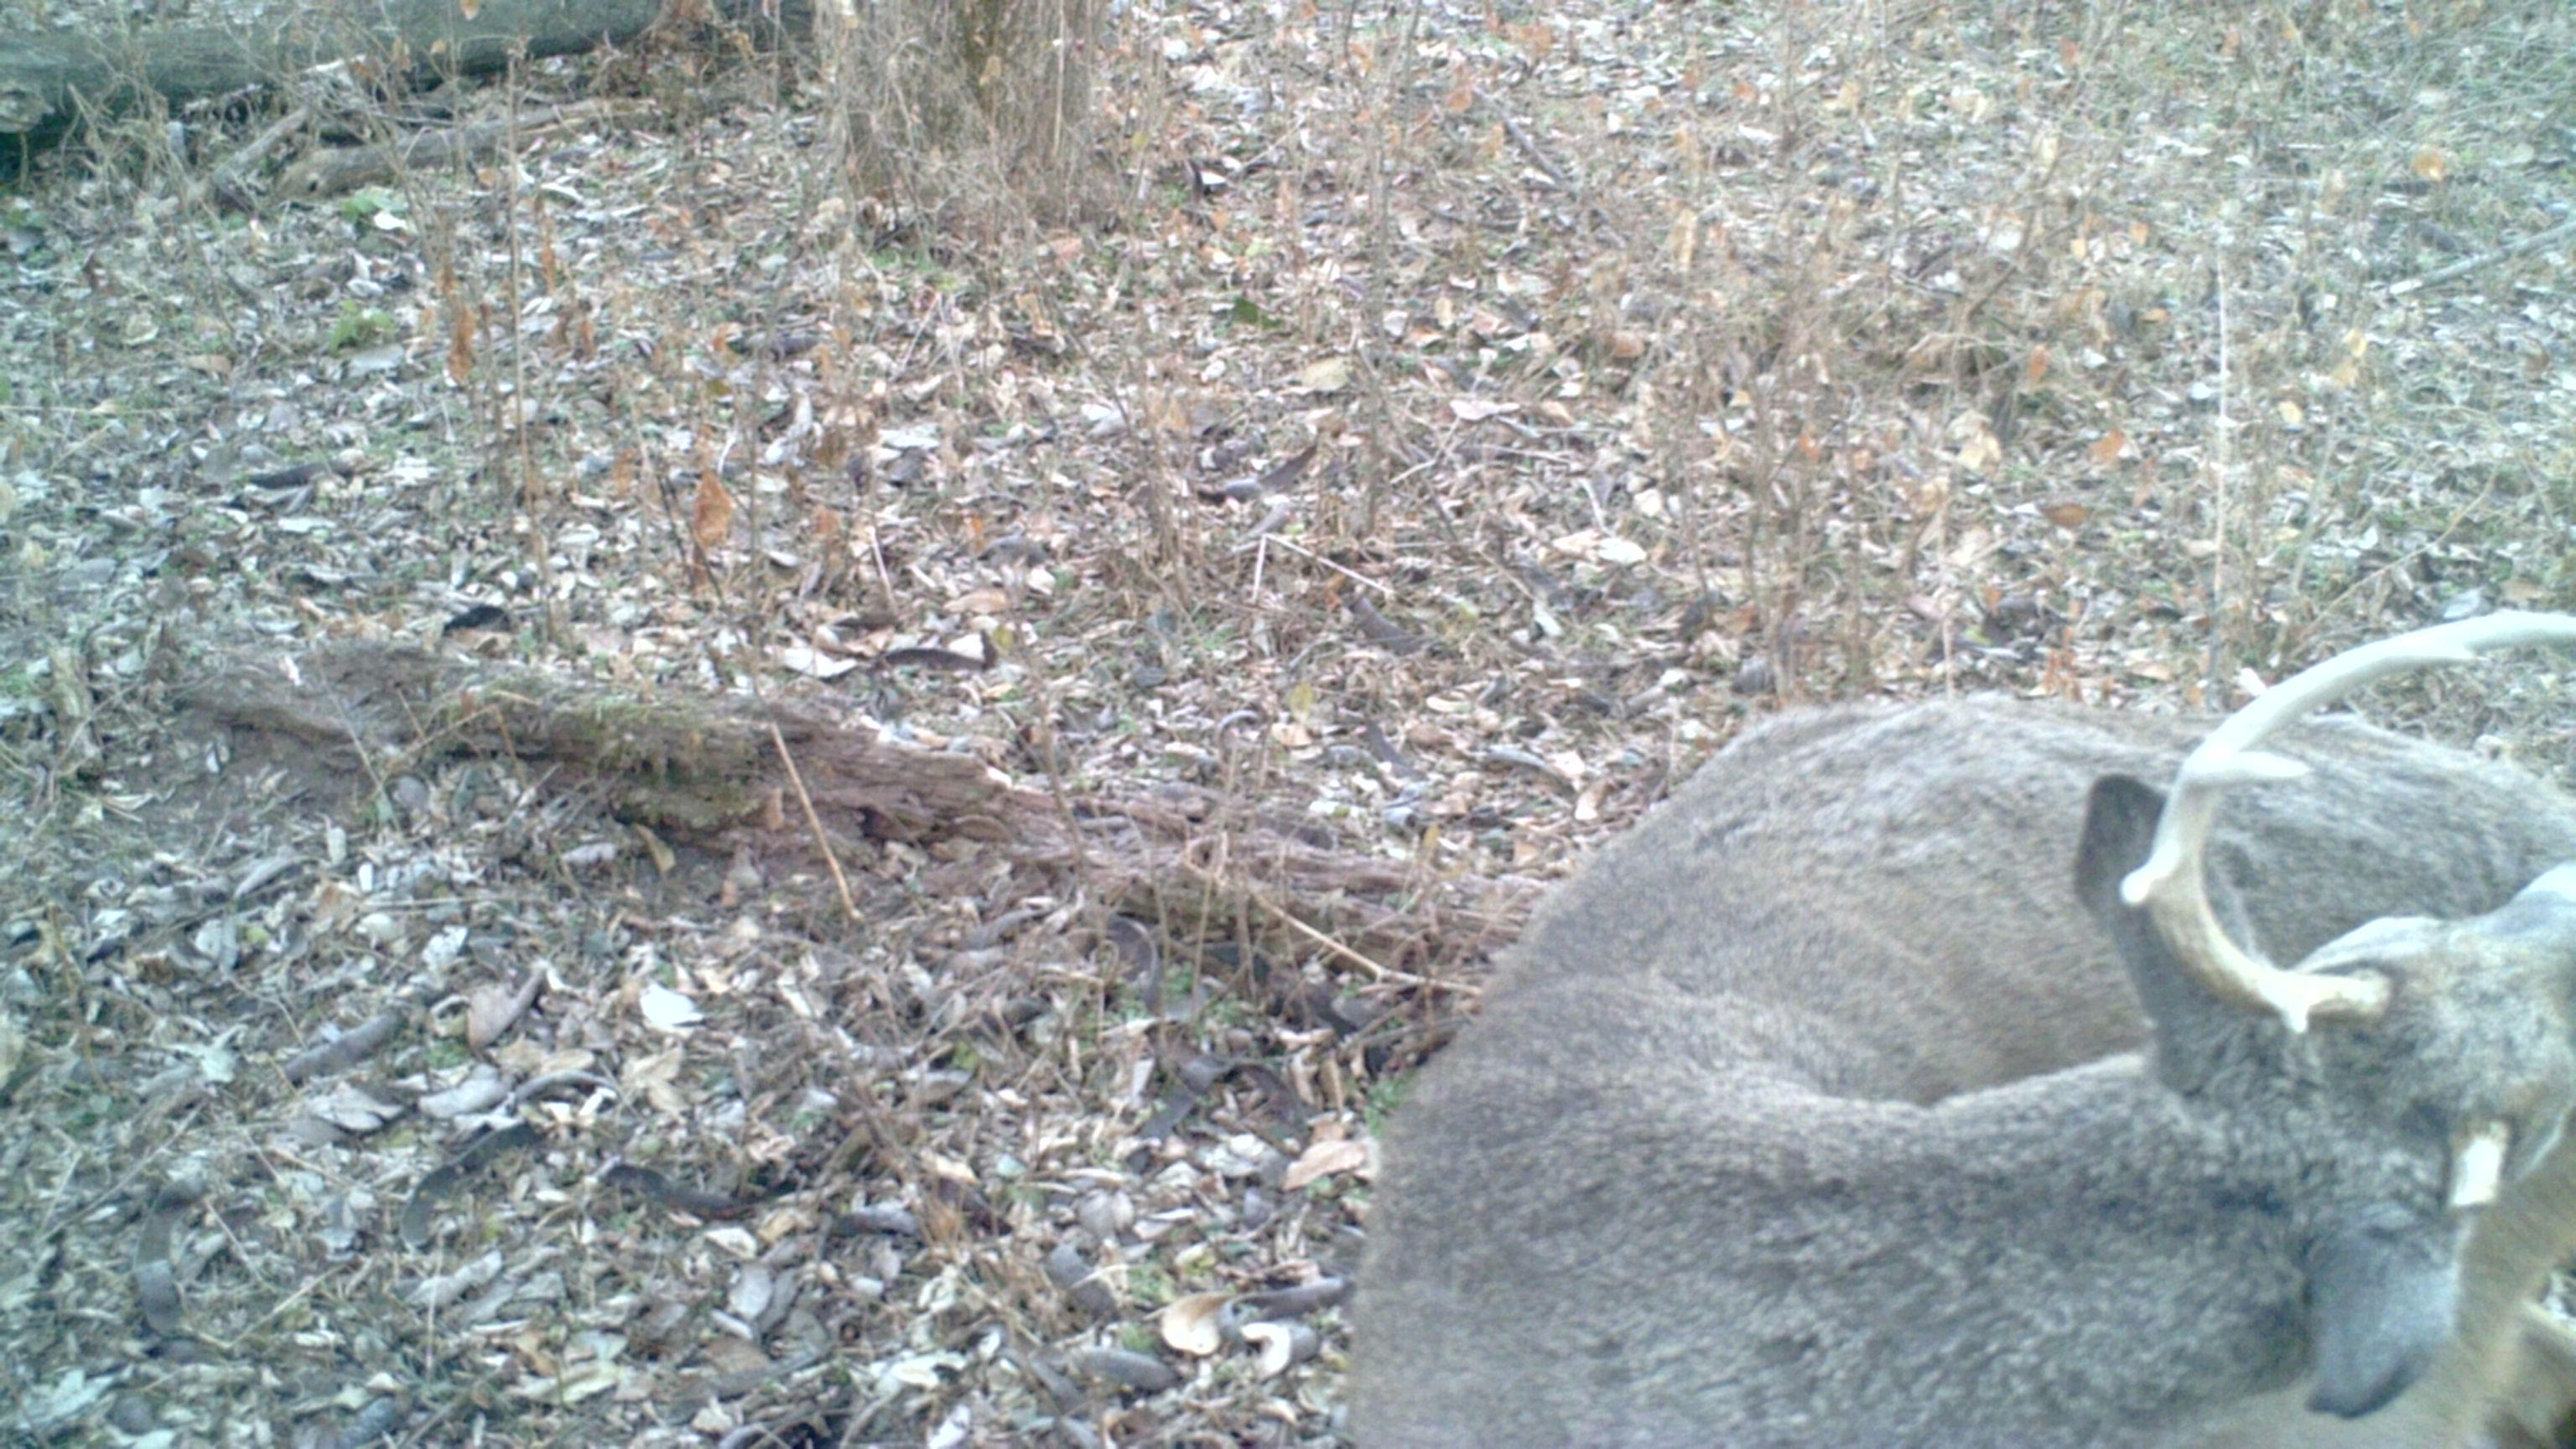DeerBuck: (1346, 590, 2575, 1449)
DeerBuckHead: (2068, 596, 2575, 1438)
